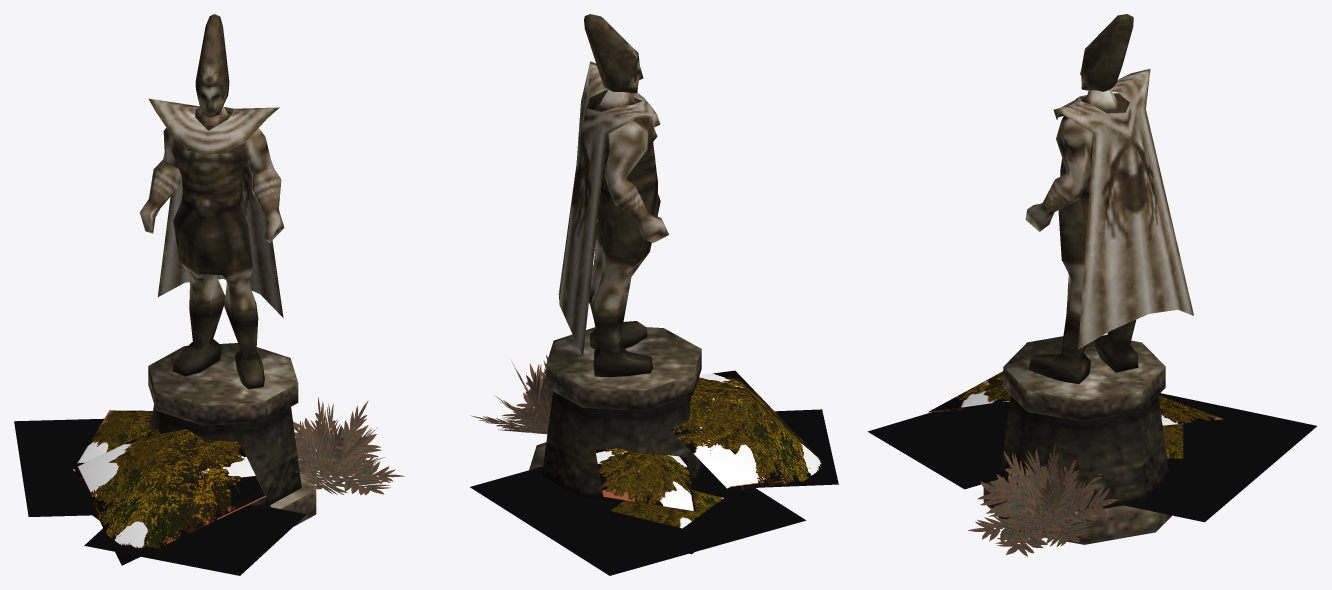
The model's file is battlemage_statue.dae.
The picture shows the model from 3 angles, left to right: view 1: azimuth 30°, elevation 25°; view 2: azimuth 150°, elevation 25°; view 3: azimuth 270°, elevation 25°; orthographic projection. The views are drawn at different scales.
Parts seen in each view (by area): view 1: Untitled; view 2: Untitled; view 3: Untitled.
Boxes of the visible parts, <box> form: Untitled: <box>14,14,404,575</box>; Untitled: <box>470,14,838,575</box>; Untitled: <box>867,14,1316,556</box>.
Size of the model in its own units: 2.71 by 2.77 by 3.35.
6 materials, 6 textured.
